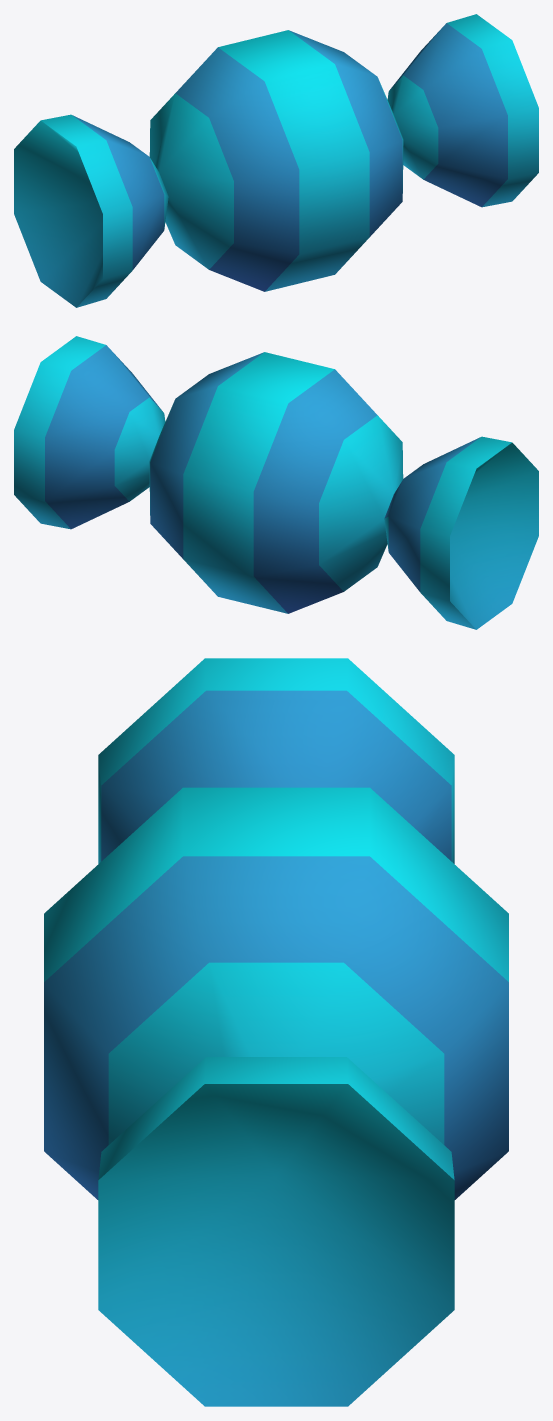
File: candy_blue_B.gltf
3 renders of one model, top to bottom at view 1: azimuth 30°, elevation 25°; view 2: azimuth 150°, elevation 25°; view 3: azimuth 270°, elevation 25°, orthographic. The views are drawn at different scales.
Parts seen in each view (by area): view 1: candy_blue_B; view 2: candy_blue_B; view 3: candy_blue_B.
Boxes of the visible parts, x1,y1,x2,y2 form: candy_blue_B: (14,14,538,307); candy_blue_B: (14,336,538,629); candy_blue_B: (44,658,508,1406).
Size of the model in its own units: 0.65 by 0.3 by 0.3.
1 material, 1 textured.
